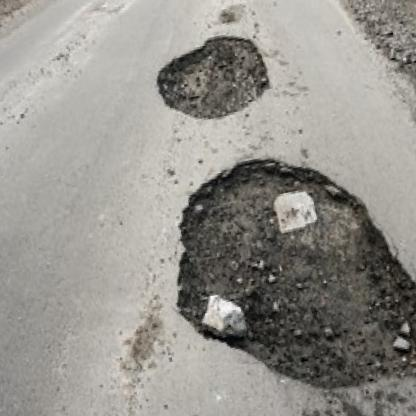pothole: (150, 127, 416, 416), (151, 28, 277, 128)
